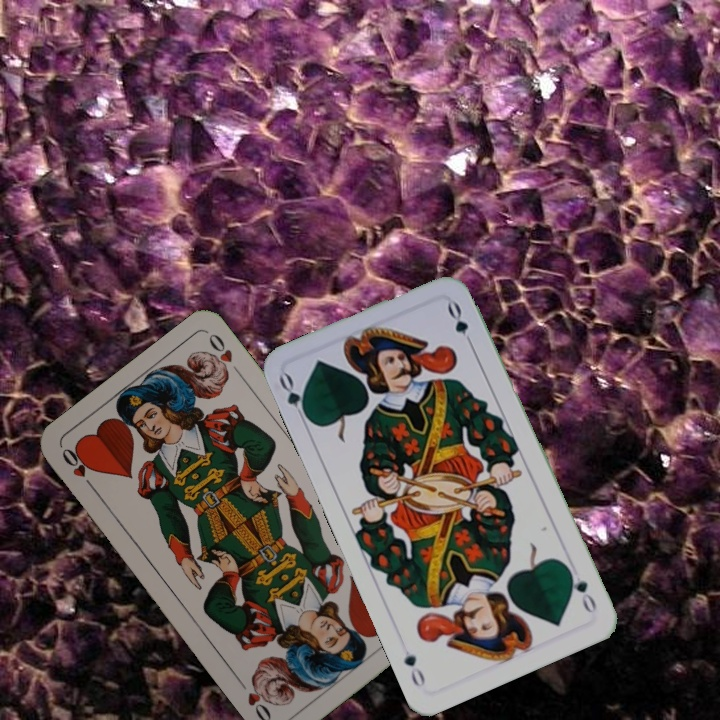GO: (274, 369, 313, 427), (563, 563, 600, 616)
HO: (57, 444, 100, 494)
